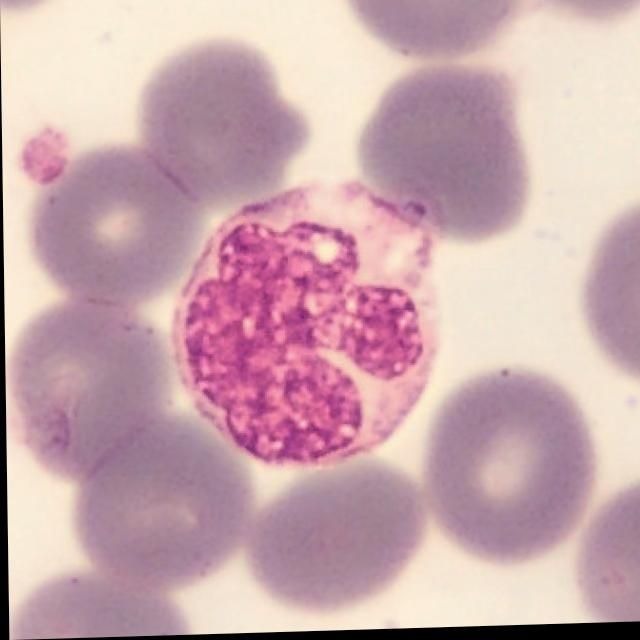Monocito: (168, 182, 442, 470)
